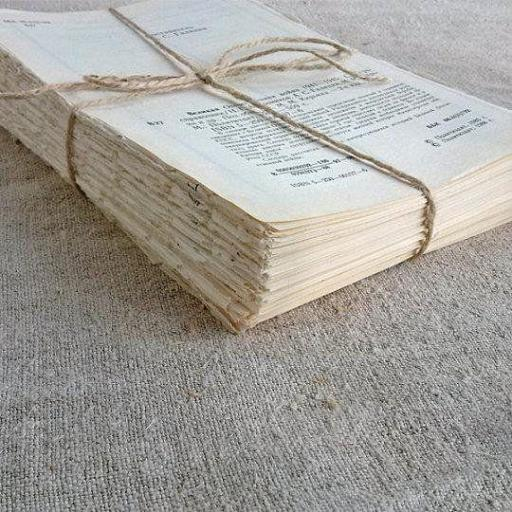paper: (0, 0, 512, 335)
